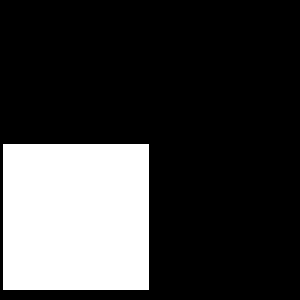circle: (3, 144, 149, 290)
